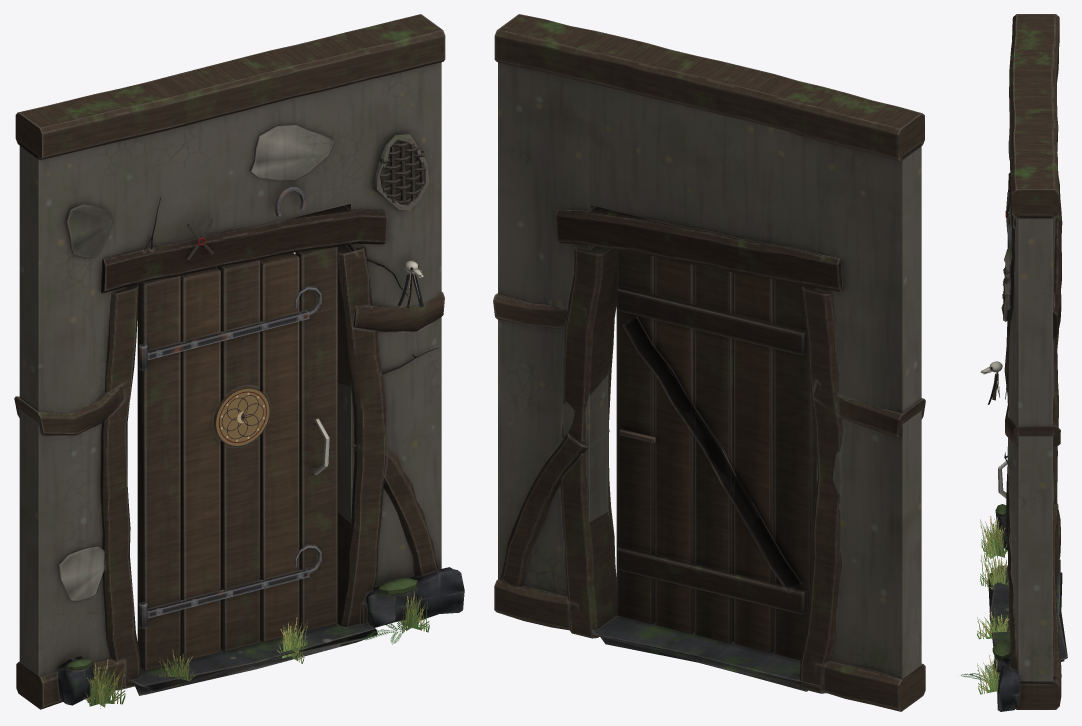
File: HutWallDoor.fbx
3 views of the same model, side by side, from view 1: azimuth 30°, elevation 25°; view 2: azimuth 150°, elevation 25°; view 3: azimuth 270°, elevation 25° (orthographic). The views are drawn at different scales.
Visible parts, largest first — view 1: HutWallDoor_Main, HutWallDoor_Door0, HutWallDoor_Leaves; view 2: HutWallDoor_Main, HutWallDoor_Door0; view 3: HutWallDoor_Main, HutWallDoor_Leaves.
Boxes of the visible parts, x1,y1,x2,y2 form: HutWallDoor_Main: (14,14,464,709); HutWallDoor_Door0: (137,247,337,670); HutWallDoor_Leaves: (84,591,429,708); HutWallDoor_Main: (493,14,925,711); HutWallDoor_Door0: (616,249,816,660); HutWallDoor_Main: (980,14,1067,711); HutWallDoor_Leaves: (961,516,1009,694).
Size of the model in its own units: 828 by 1108 by 218.
